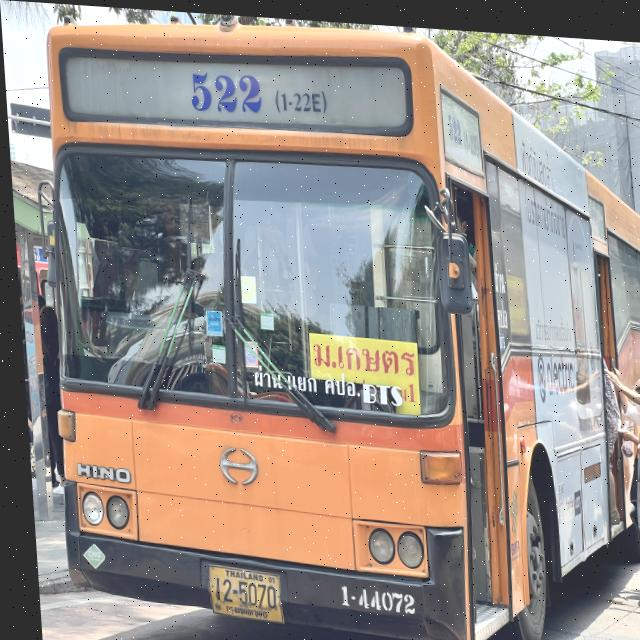BMTA-bus: (22, 7, 640, 640)
Bus-Line-Number: (178, 60, 332, 118)
Destination-Sign-Extra-Bus-Expressway: (307, 330, 414, 411)
